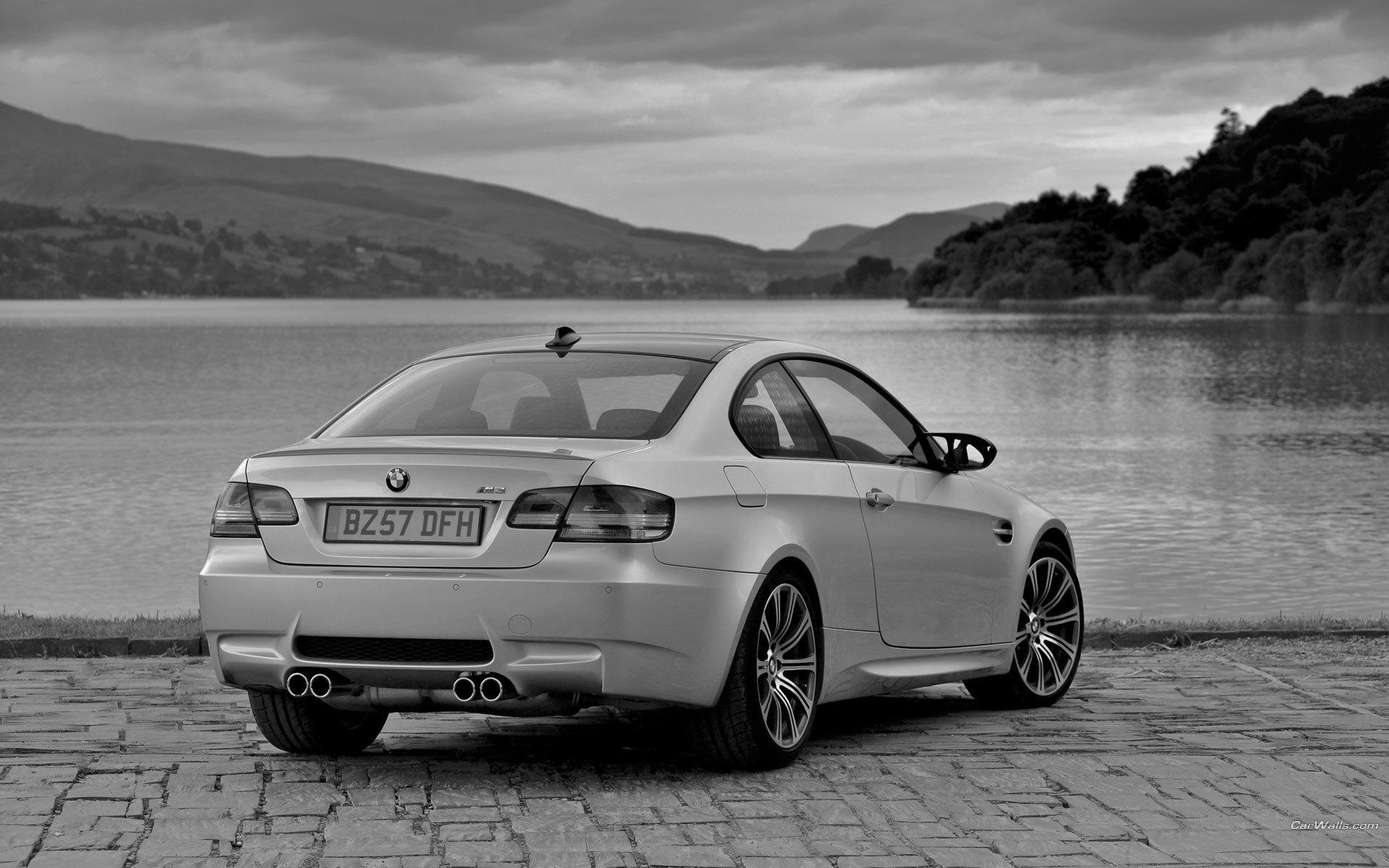car: (200, 328, 1088, 773)
